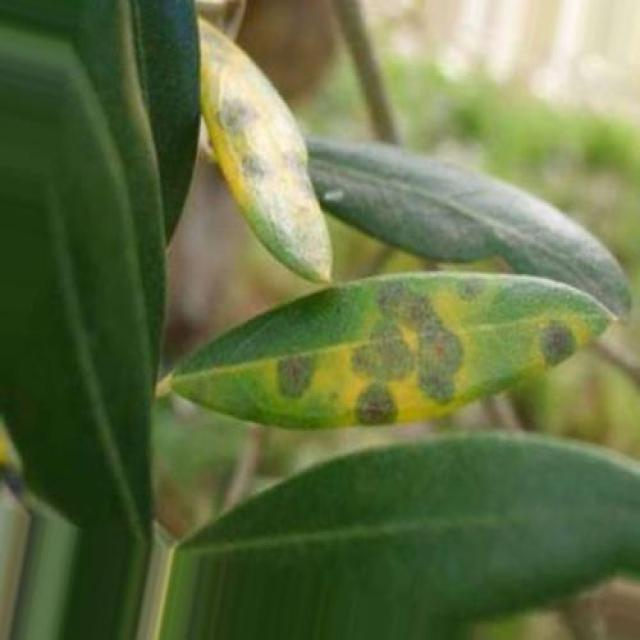Peacock Eye: (165, 272, 611, 432), (198, 16, 330, 280)
